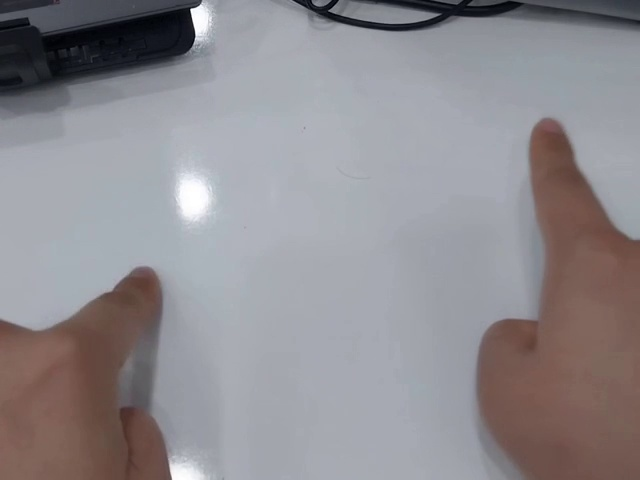fingers: (113, 264, 161, 325), (529, 117, 576, 163)
